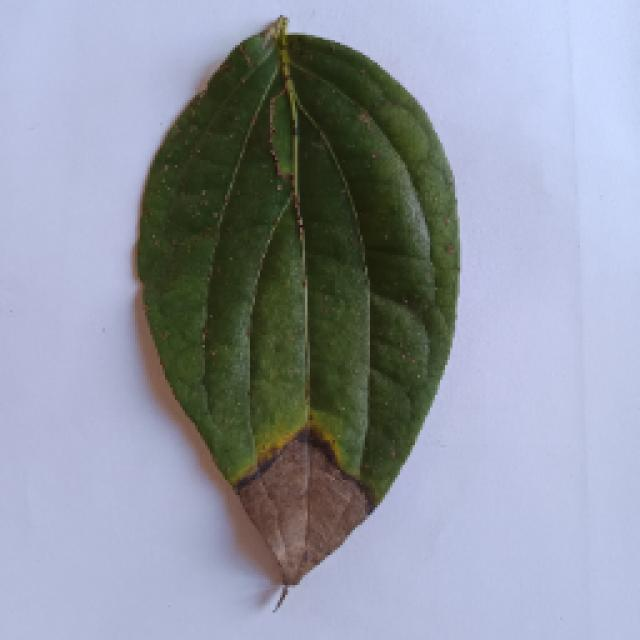footrot: (130, 20, 460, 608)
